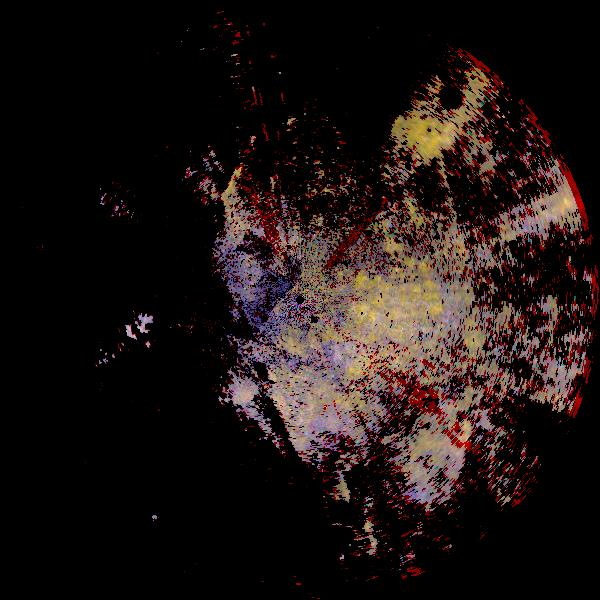roost: (394, 412, 511, 529)
